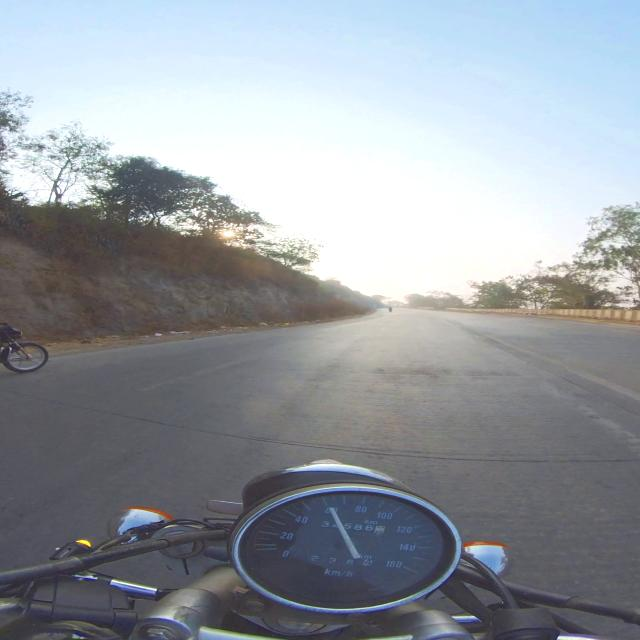motorcycle: (0, 461, 639, 639), (0, 323, 48, 372)
